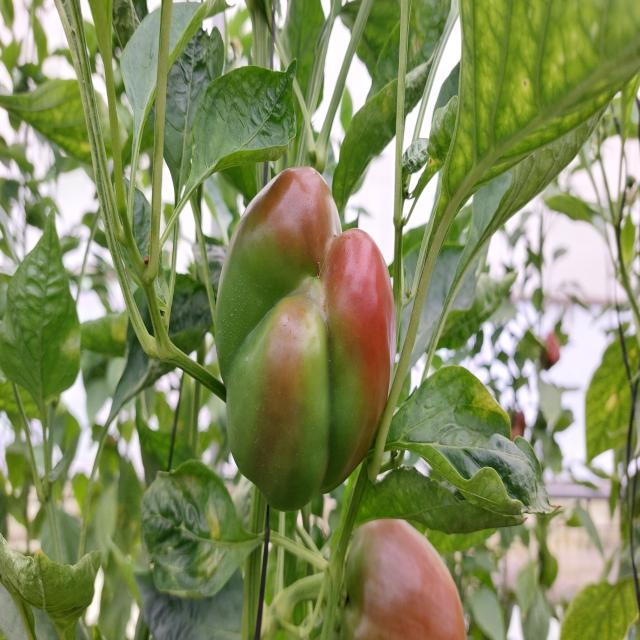BrownishRed--Can-be-Harvested: (212, 166, 398, 504), (330, 524, 465, 636)
